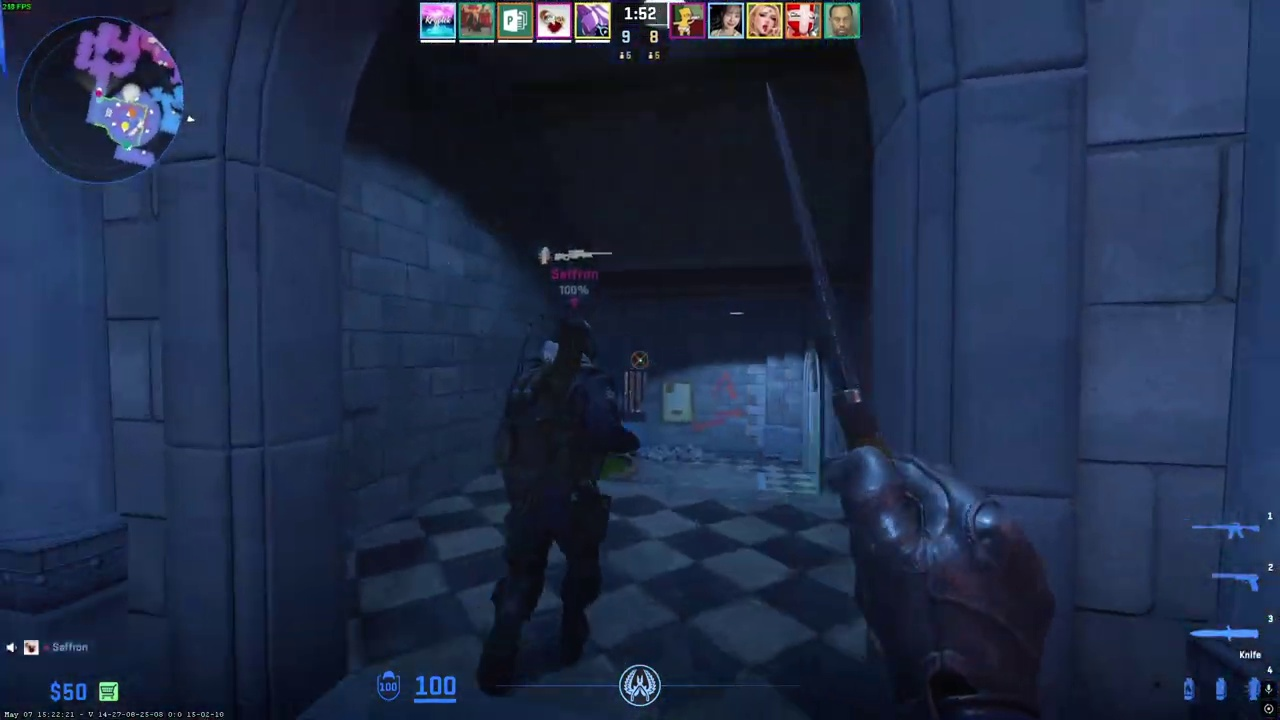CT: (488, 315, 625, 690)
